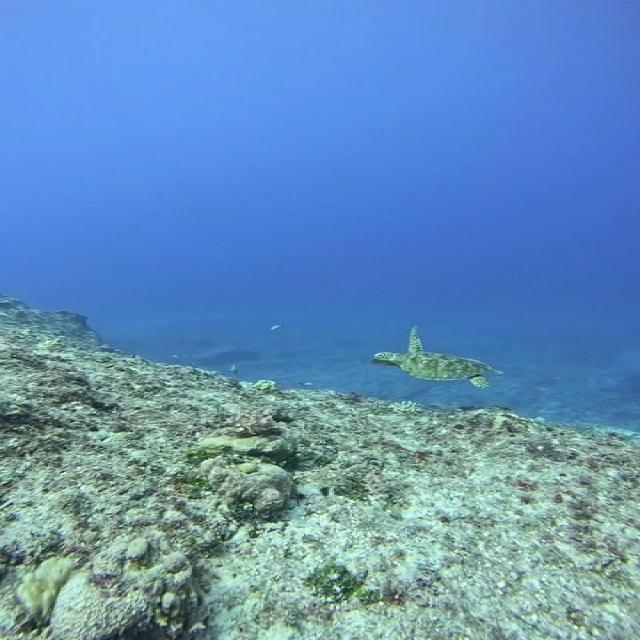turtle: (371, 326, 504, 389)
